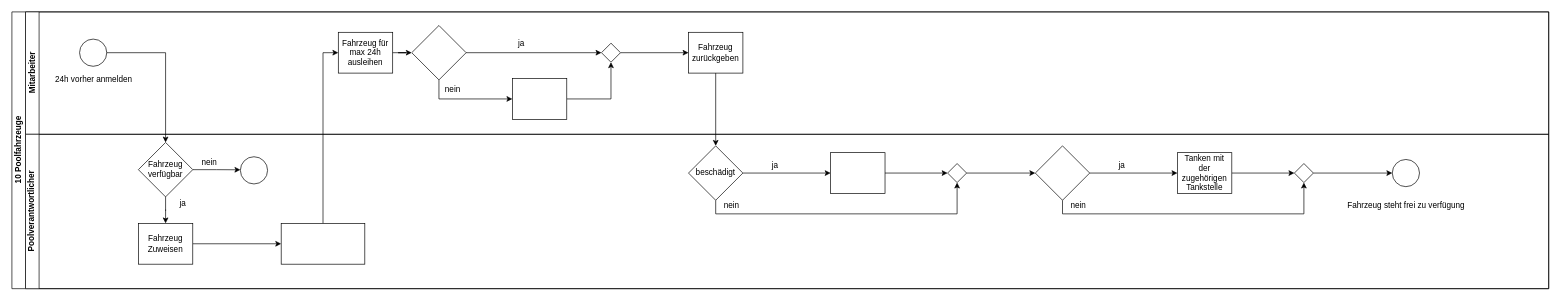
This 1561x301 diagram has some shape labels left out. The shapes that lost their labels are listed below. From the top down, each one's box as (x1, y1, x2, y2) in pixels, then its label:
(411, 25, 466, 80): Trank reicht aus
(512, 78, 567, 119): zwichentanken
(830, 152, 885, 193): Fahrzeug reparieren lassen
(1035, 145, 1090, 200): Tank < 50%
(280, 223, 365, 264): Fahrzeugschein und Schlüssel geben
